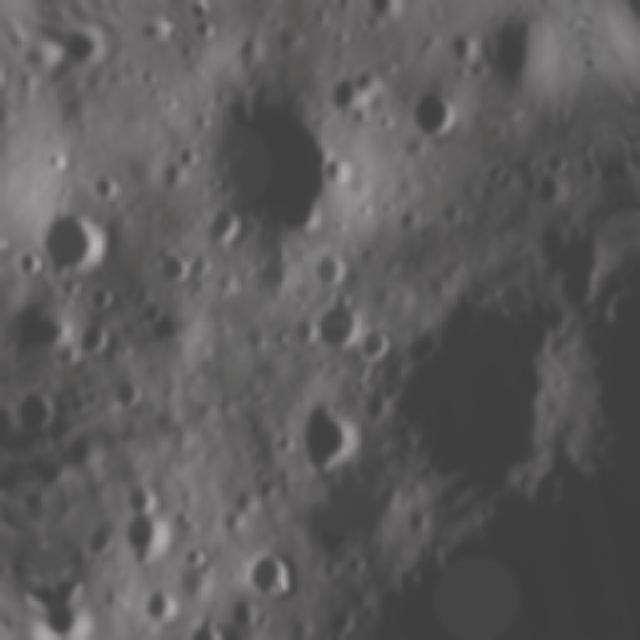crater: (370, 276, 588, 518), (190, 70, 364, 255), (537, 211, 620, 323), (286, 387, 376, 484), (472, 7, 554, 96), (29, 204, 117, 284), (399, 79, 464, 150), (304, 290, 370, 358), (243, 233, 302, 304), (239, 542, 301, 607), (11, 380, 69, 446), (60, 316, 122, 369), (318, 65, 372, 124), (41, 39, 114, 81), (54, 426, 109, 480), (146, 240, 199, 292), (438, 19, 490, 72), (197, 203, 248, 255), (1, 237, 53, 286), (350, 317, 398, 369), (122, 507, 172, 556), (138, 575, 184, 628), (76, 519, 126, 566), (86, 159, 131, 210), (528, 136, 581, 178), (526, 164, 574, 208), (306, 247, 354, 291), (106, 373, 151, 419), (224, 587, 267, 635), (119, 472, 161, 517), (182, 607, 239, 640), (80, 278, 122, 322), (180, 15, 225, 54), (234, 318, 272, 362), (392, 195, 430, 238), (433, 191, 475, 229), (177, 540, 217, 578), (130, 292, 167, 332), (168, 138, 203, 176), (361, 0, 405, 28), (264, 316, 294, 356), (0, 64, 18, 118)
